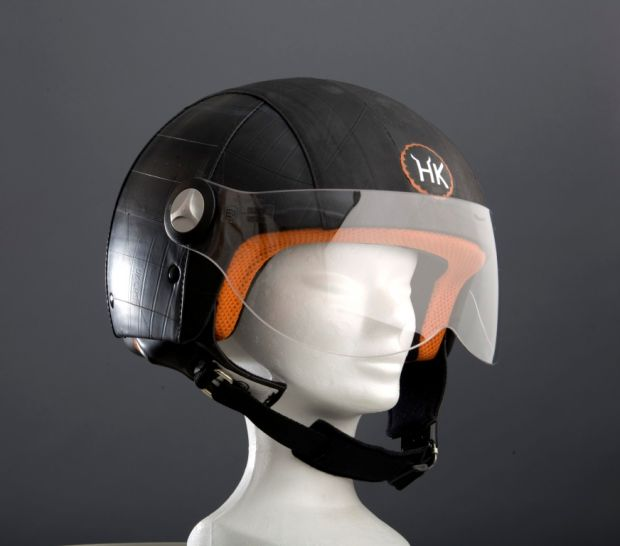helmet: (96, 45, 494, 243)
